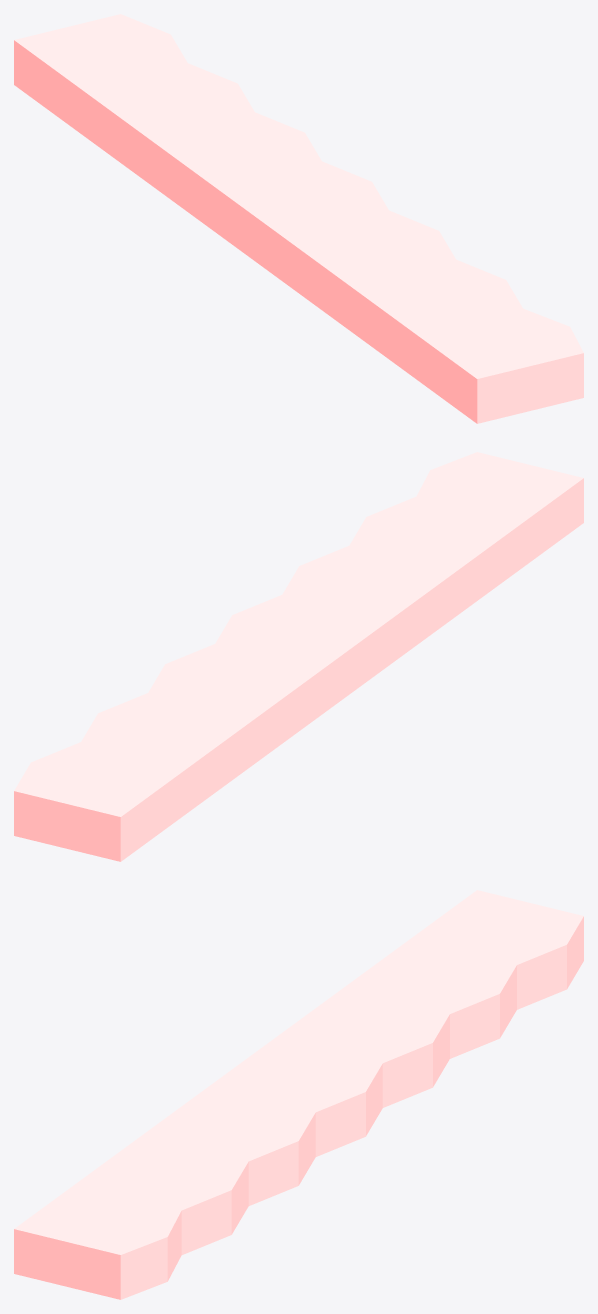
The model's file is Seam_Light.fbx.
3 views of the same model, one above another, from view 1: azimuth 30°, elevation 25°; view 2: azimuth 150°, elevation 25°; view 3: azimuth 330°, elevation 25° (orthographic).
Visible parts, largest first — view 1: Decorative_Seam_Light; view 2: Decorative_Seam_Light; view 3: Decorative_Seam_Light.
Part boxes in pixels (x1,y1,x2,y2): Decorative_Seam_Light: (14, 14, 583, 423); Decorative_Seam_Light: (14, 452, 583, 861); Decorative_Seam_Light: (14, 890, 583, 1299).
Size of the model in its own units: 0.6549 by 0.2274 by 4.26.
